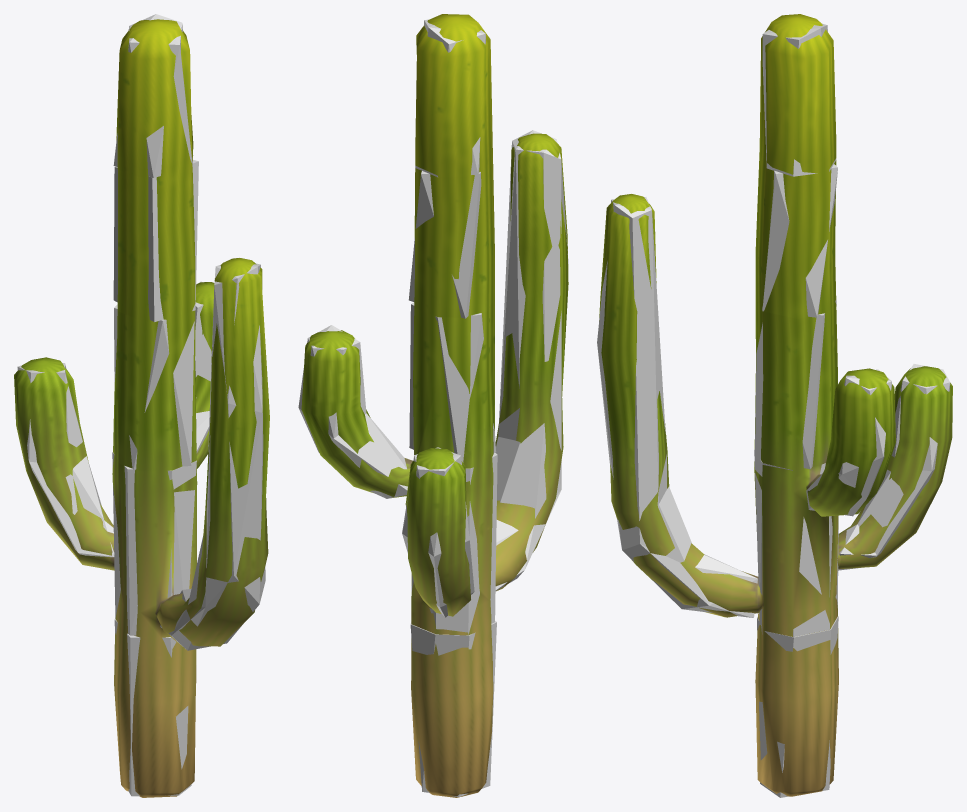
The model's file is Fractured_4.fbx.
3 views of the same model, side by side, from view 1: azimuth 30°, elevation 25°; view 2: azimuth 150°, elevation 25°; view 3: azimuth 270°, elevation 25° (orthographic).
Parts seen in each view (by area): view 1: cactus_4_branch_1, cactus_4_body_1, cactus_4_body_4, cactus_4_body_3, cactus_4_body_5, cactus_4_branch_2, cactus_4_body_2, cactus_4_branch_1_cd, cactus_4_body_2_cd, cactus_4_branch_2_cd, cactus_4_body_3_cd, cactus_4_body_4_cd (+4 smaller); view 2: cactus_4_branch_1, cactus_4_branch_1_cd, cactus_4_body_1, cactus_4_body_5, cactus_4_body_3, cactus_4_body_4, cactus_4_branch_2, cactus_4_branch_3, cactus_4_body_2, cactus_4_body_3_cd, cactus_4_branch_3_cd, cactus_4_body_4_cd (+4 smaller); view 3: cactus_4_branch_1, cactus_4_branch_1_cd, cactus_4_body_1, cactus_4_body_5, cactus_4_body_2, cactus_4_body_3, cactus_4_branch_2, cactus_4_body_4, cactus_4_branch_3, cactus_4_branch_2_cd, cactus_4_body_4_cd, cactus_4_body_3_cd (+4 smaller).
Boxes of the visible parts, left/top/right/bottom form: cactus_4_branch_1: left=157, top=258, right=269, bottom=646; cactus_4_body_1: left=114, top=623, right=196, bottom=797; cactus_4_body_4: left=117, top=167, right=195, bottom=319; cactus_4_body_3: left=113, top=310, right=196, bottom=470; cactus_4_body_5: left=116, top=19, right=193, bottom=176; cactus_4_branch_2: left=14, top=357, right=114, bottom=570; cactus_4_body_2: left=112, top=455, right=197, bottom=637; cactus_4_branch_1_cd: left=160, top=263, right=265, bottom=650; cactus_4_body_2_cd: left=112, top=452, right=196, bottom=635; cactus_4_branch_2_cd: left=17, top=363, right=114, bottom=557; cactus_4_body_3_cd: left=114, top=304, right=194, bottom=469; cactus_4_body_4_cd: left=113, top=160, right=198, bottom=321; cactus_4_branch_1: left=495, top=133, right=568, bottom=591; cactus_4_branch_1_cd: left=495, top=130, right=568, bottom=590; cactus_4_body_1: left=411, top=624, right=493, bottom=797; cactus_4_body_5: left=415, top=14, right=492, bottom=177; cactus_4_body_3: left=413, top=298, right=494, bottom=468; cactus_4_body_4: left=414, top=157, right=494, bottom=317; cactus_4_branch_2: left=405, top=448, right=470, bottom=616; cactus_4_branch_3: left=301, top=330, right=410, bottom=498; cactus_4_body_2: left=410, top=454, right=493, bottom=635; cactus_4_body_3_cd: left=409, top=302, right=496, bottom=462; cactus_4_branch_3_cd: left=298, top=325, right=407, bottom=498; cactus_4_body_4_cd: left=408, top=171, right=481, bottom=318; cactus_4_branch_1: left=599, top=194, right=757, bottom=617; cactus_4_branch_1_cd: left=597, top=197, right=757, bottom=617; cactus_4_body_1: left=755, top=625, right=838, bottom=796; cactus_4_body_5: left=759, top=14, right=836, bottom=174; cactus_4_body_2: left=754, top=461, right=840, bottom=636; cactus_4_body_3: left=754, top=298, right=837, bottom=469; cactus_4_branch_2: left=838, top=366, right=952, bottom=569; cactus_4_body_4: left=755, top=155, right=836, bottom=318; cactus_4_branch_3: left=806, top=368, right=895, bottom=516; cactus_4_branch_2_cd: left=838, top=364, right=950, bottom=570; cactus_4_body_4_cd: left=762, top=164, right=837, bottom=317; cactus_4_body_3_cd: left=754, top=299, right=836, bottom=469.
Bounding box in the file's own units: 442 × 1719 × 722.
